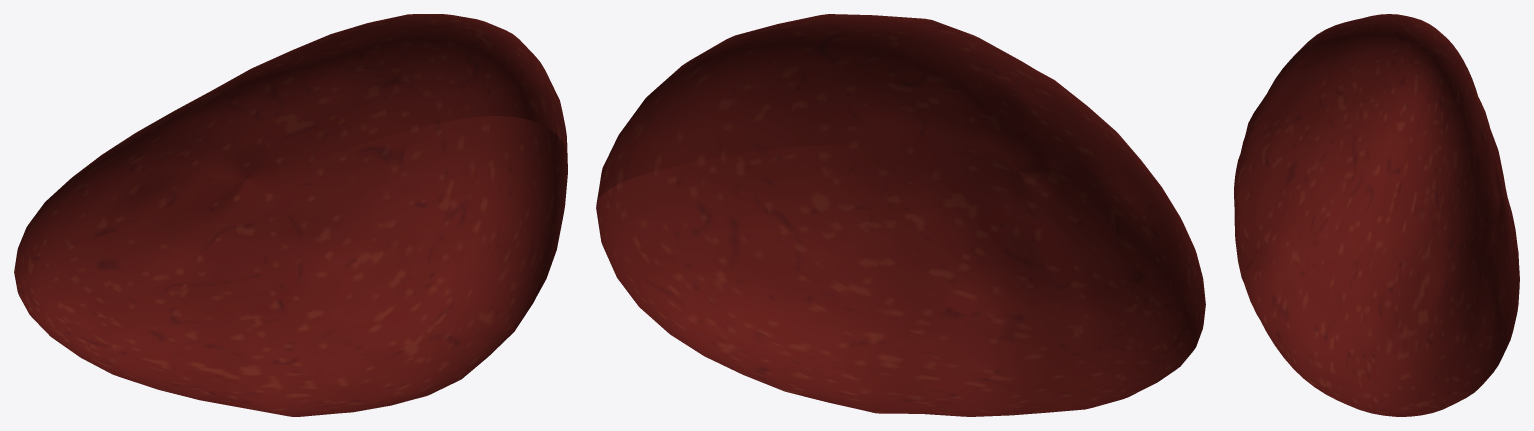
File: liver_healthy.glb
3 renders of one model, left to right at view 1: azimuth 30°, elevation 25°; view 2: azimuth 150°, elevation 25°; view 3: azimuth 270°, elevation 25°, orthographic. The views are drawn at different scales.
Size of the model in its own units: 4.05 by 2.53 by 1.98.
Materials: 1 (1 with a texture image).
